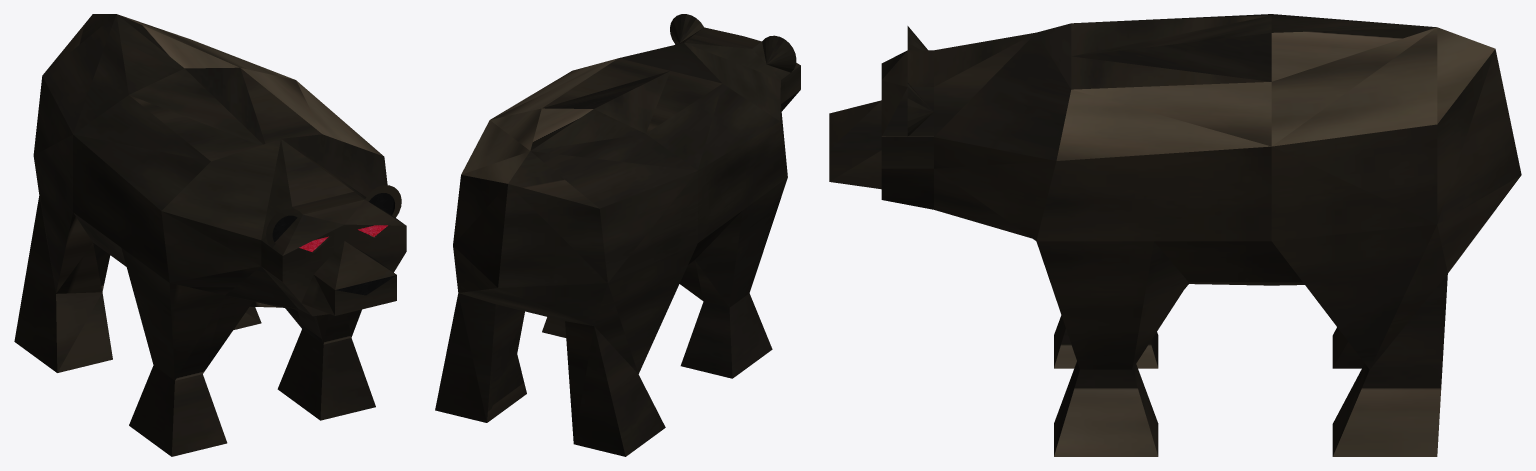
Rendered from medved.obj.
3 views of the same model, side by side, from view 1: azimuth 30°, elevation 25°; view 2: azimuth 150°, elevation 25°; view 3: azimuth 270°, elevation 25° (orthographic). The views are drawn at different scales.
Parts seen in each view (by area): view 1: medved_Main-Material3, medved_Main-Material2; view 2: medved_Main-Material3; view 3: medved_Main-Material3.
Part boxes in pixels (left/top/right/bottom): medved_Main-Material3: left=14, top=14, right=406, bottom=456; medved_Main-Material2: left=272, top=193, right=396, bottom=295; medved_Main-Material3: left=435, top=14, right=800, bottom=456; medved_Main-Material3: left=829, top=14, right=1521, bottom=456.
Bounding box in the file's own units: 0.9 × 1.17 × 1.99.
4 materials, 3 textured.
